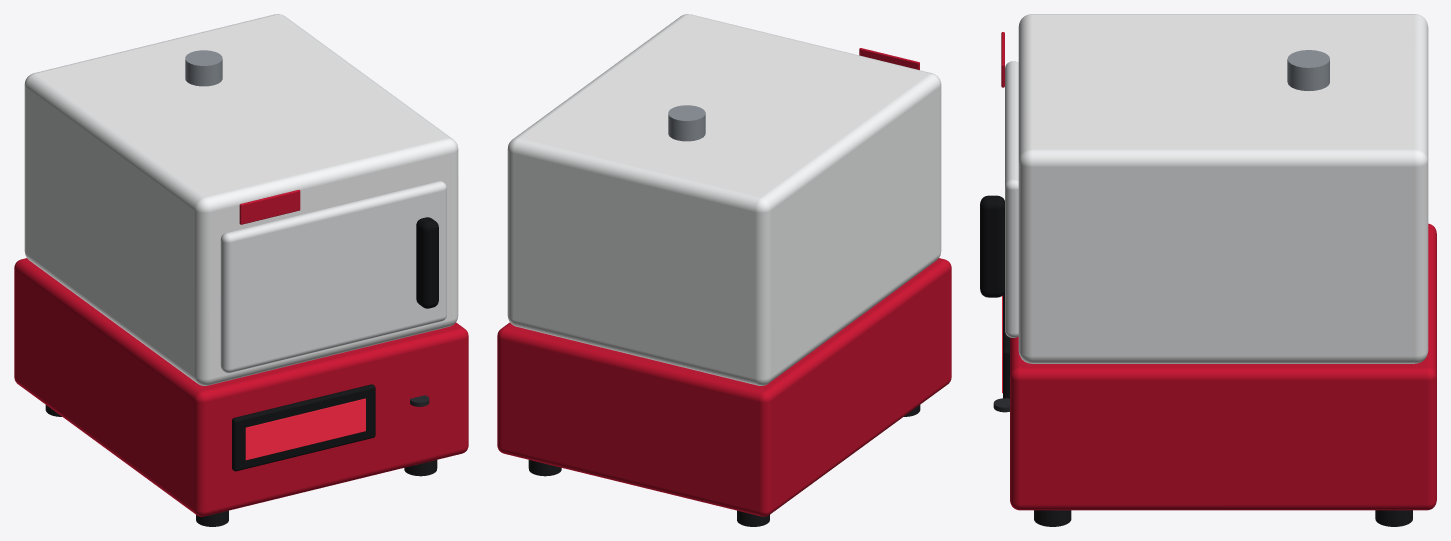
Rendered from nkf-12.glb.
3 views of the same model, side by side, from view 1: azimuth 30°, elevation 25°; view 2: azimuth 150°, elevation 25°; view 3: azimuth 270°, elevation 25° (orthographic). The views are drawn at different scales.
Size of the model in its own units: 0.42 by 0.52 by 0.535.
